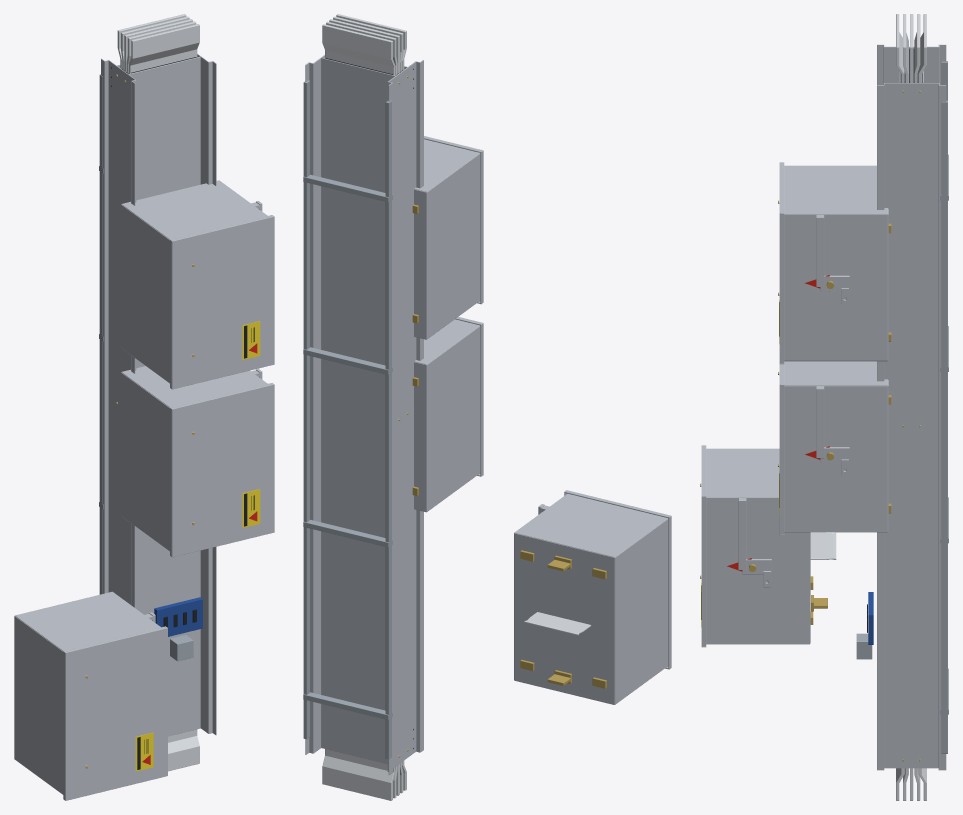
File: connected-system.glb
3 views of the same model, side by side, from view 1: azimuth 30°, elevation 25°; view 2: azimuth 150°, elevation 25°; view 3: azimuth 270°, elevation 25° (orthographic). The views are drawn at different scales.
Visible parts, largest first — view 1: Recessed side sheet, Lid sheet.001, Lid sheet, Lid sheet.002, Continuous folded upper profile, Side sheet.005, Side sheet.003, Side sheet.001, Continuous folded lower profile, End sheet.005, End sheet.001, End sheet.003 (+8 smaller); view 2: Recessed side sheet.001, Continuous folded upper profile, Rear mounting panel.002, Side sheet.001, Side sheet.005, Side sheet.003, Continuous folded lower profile, End sheet.005, Continuous rear rail, Continuous rear rail.001, Blade 5 plated spread terminal, Blade 5 plated spread terminal.001 (+8 smaller); view 3: Continuous folded lower profile, Side sheet, Side sheet.002, Side sheet.004, End sheet.001, Continuous rear rail.001, End sheet.005, End sheet.003, Continuous folded upper profile, Long lever.001, Long lever.002, Long lever (+3 smaller).
Part boxes in pixels (x1,y1,x2,y2): Recessed side sheet: [128, 56, 200, 736]; Lid sheet.001: [171, 384, 274, 557]; Lid sheet: [171, 216, 274, 389]; Lid sheet.002: [65, 627, 167, 800]; Continuous folded upper profile: [101, 58, 136, 608]; Side sheet.005: [14, 616, 63, 794]; Side sheet.003: [121, 372, 169, 551]; Side sheet.001: [121, 204, 169, 383]; Continuous folded lower profile: [197, 54, 216, 735]; End sheet.005: [15, 591, 160, 651]; End sheet.001: [121, 180, 267, 239]; End sheet.003: [121, 366, 267, 407]; Recessed side sheet.001: [321, 58, 395, 763]; Continuous folded upper profile: [387, 60, 423, 775]; Rear mounting panel.002: [514, 533, 614, 704]; Side sheet.001: [426, 153, 480, 339]; Side sheet.005: [614, 519, 668, 704]; Side sheet.003: [426, 326, 480, 511]; Continuous folded lower profile: [305, 55, 324, 754]; End sheet.005: [514, 493, 667, 557]; Continuous rear rail: [385, 100, 391, 759]; Continuous rear rail.001: [303, 80, 309, 739]; Blade 5 plated spread terminal: [322, 749, 395, 800]; Blade 5 plated spread terminal.001: [322, 24, 395, 75]; Continuous folded lower profile: [877, 83, 946, 770]; Side sheet: [784, 214, 887, 360]; Side sheet.002: [784, 386, 887, 532]; Side sheet.004: [706, 497, 809, 643]; End sheet.001: [784, 165, 887, 214]; Continuous rear rail.001: [941, 100, 947, 753]; End sheet.005: [706, 448, 779, 497]; End sheet.003: [784, 361, 887, 385]; Continuous folded upper profile: [877, 44, 946, 84]; Long lever.001: [816, 387, 824, 458]; Long lever.002: [738, 499, 746, 569]; Long lever: [816, 216, 824, 286].
Bounding box in the file's own units: 0.6465 × 1.8 × 0.5398.
